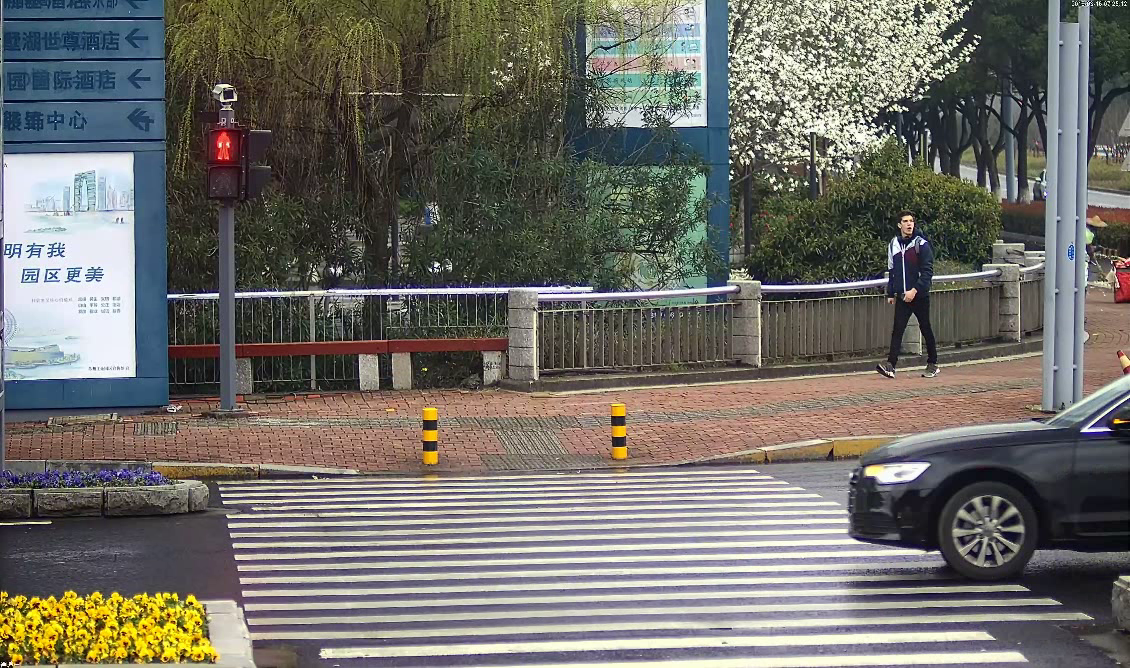person: (873, 205, 949, 383)
